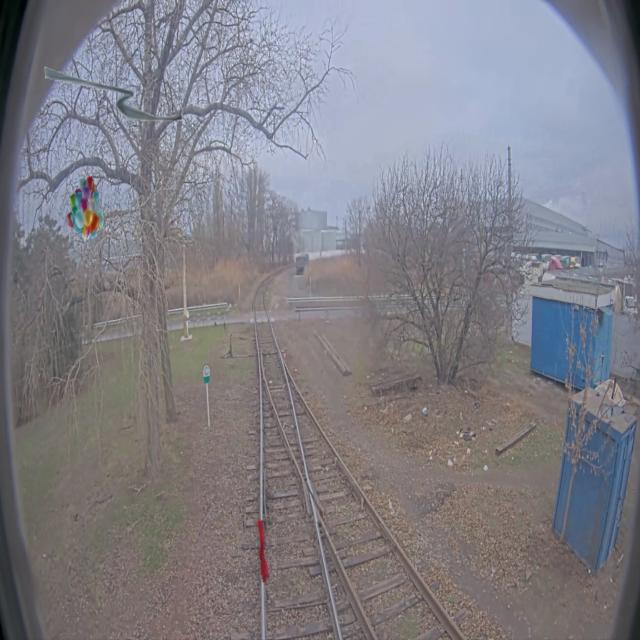balloon: (67, 176, 104, 240)
floating object: (43, 62, 183, 126), (256, 518, 270, 582)
